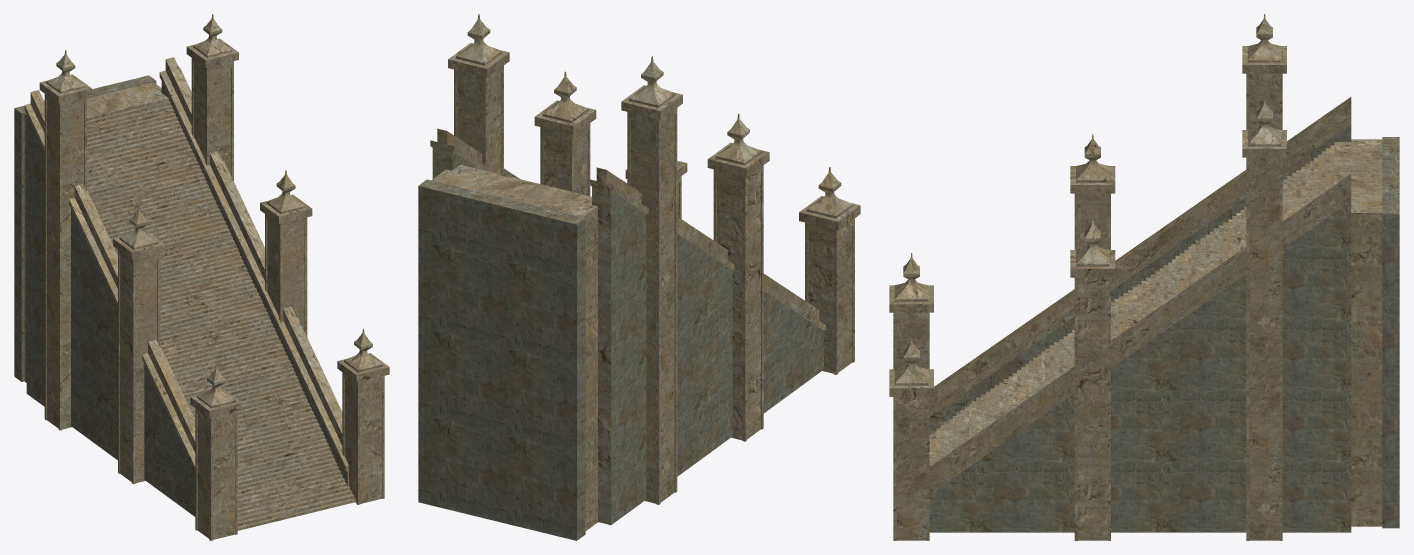
File: stair.obj
3 views of the same model, side by side, from view 1: azimuth 30°, elevation 25°; view 2: azimuth 150°, elevation 25°; view 3: azimuth 270°, elevation 25° (orthographic). The views are drawn at different scales.
Visible parts, largest first — view 1: tower26_Malla.002, group7_pCube5_Malla, pCube1_Malla.001; view 2: tower26_Malla.002, pCube1_Malla.001, group7_pCube5_Malla; view 3: tower26_Malla.002, group7_pCube5_Malla, pCube1_Malla.001.
Part boxes in pixels (x1=…): tower26_Malla.002: x1=24, y1=14, x2=389, y2=540; group7_pCube5_Malla: x1=24, y1=82, x2=356, y2=530; pCube1_Malla.001: x1=14, y1=75, x2=156, y2=381; tower26_Malla.002: x1=430, y1=14, x2=860, y2=524; pCube1_Malla.001: x1=418, y1=179, x2=585, y2=540; group7_pCube5_Malla: x1=431, y1=164, x2=597, y2=530; tower26_Malla.002: x1=889, y1=14, x2=1351, y2=540; group7_pCube5_Malla: x1=929, y1=139, x2=1382, y2=526; pCube1_Malla.001: x1=1382, y1=137, x2=1399, y2=528.
Size of the model in its own units: 0.0237 by 0.0467 by 0.0497.
2 materials, 2 textured.
